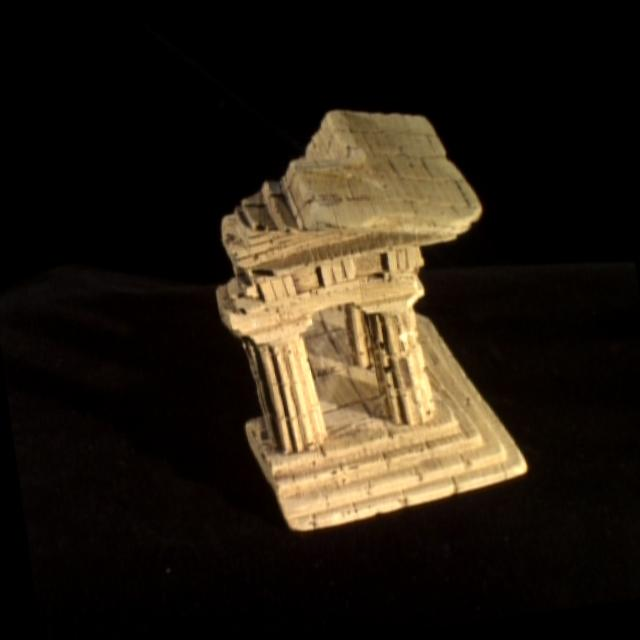Instance-Segmentation: (218, 110, 527, 530)
